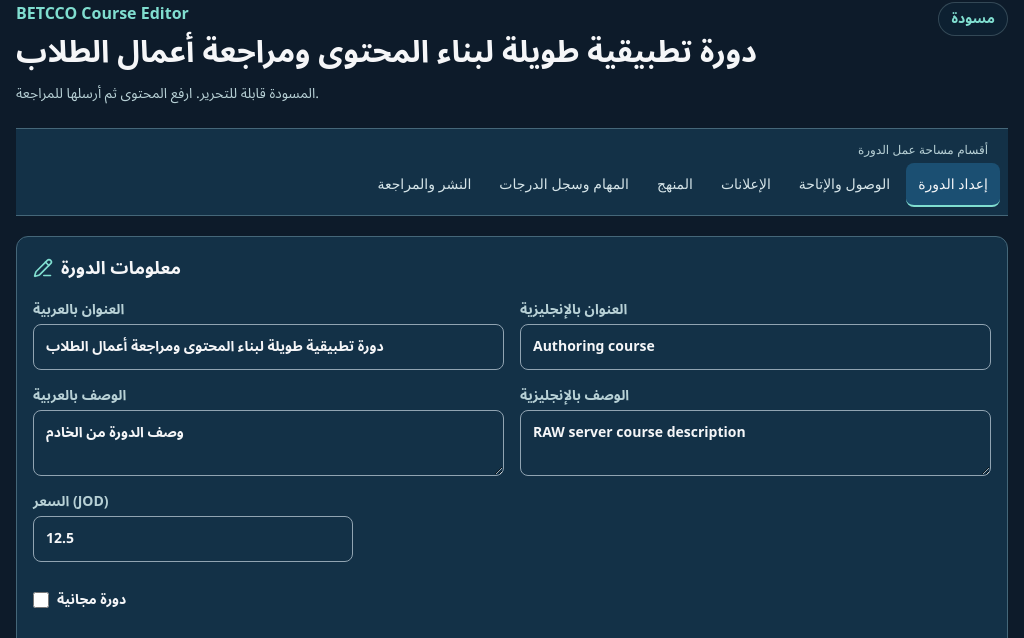
ar mutable Teacher authoring › preserves update payload and bodyless review request with server validation order
Step 1. Replace the text in the field labelled "العنوان بالإنجليزية" with "RAW updated title" → (756, 347), box [520,324,991,370]
(page scrolled)
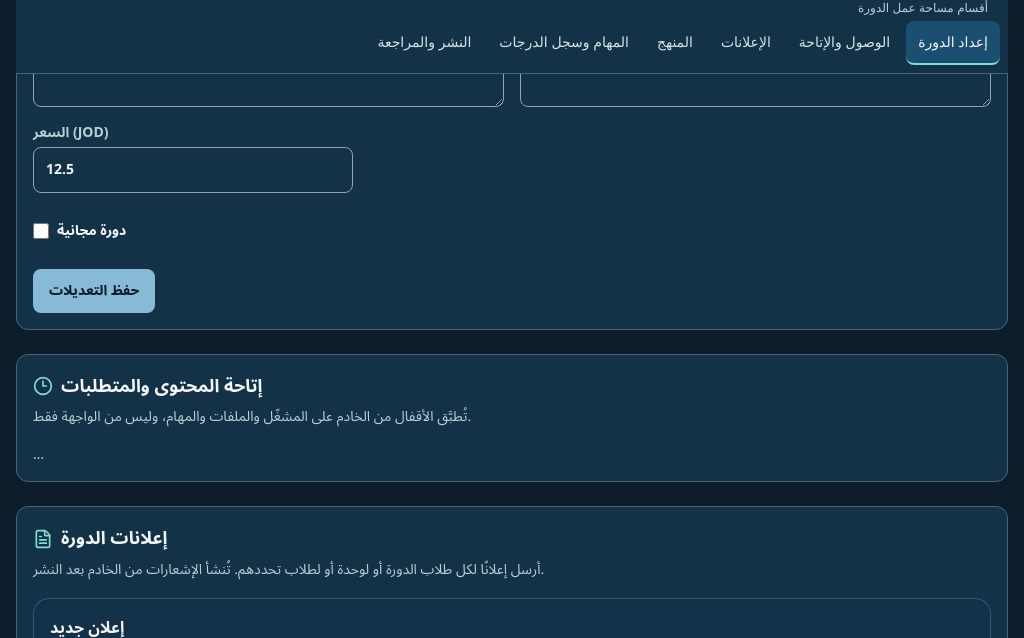
Step 2. Click the button "حفظ التعديلات" → (94, 291), box [33,269,155,313]
(page scrolled)
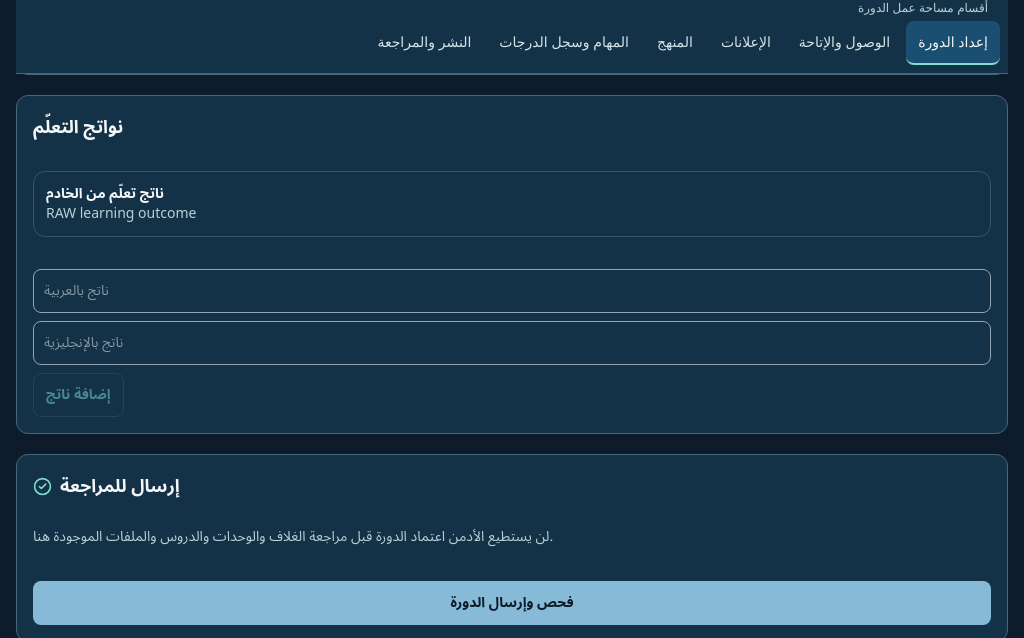
Step 3. Click the button "فحص وإرسال الدورة" → (512, 603), box [33,581,991,625]
(page scrolled)
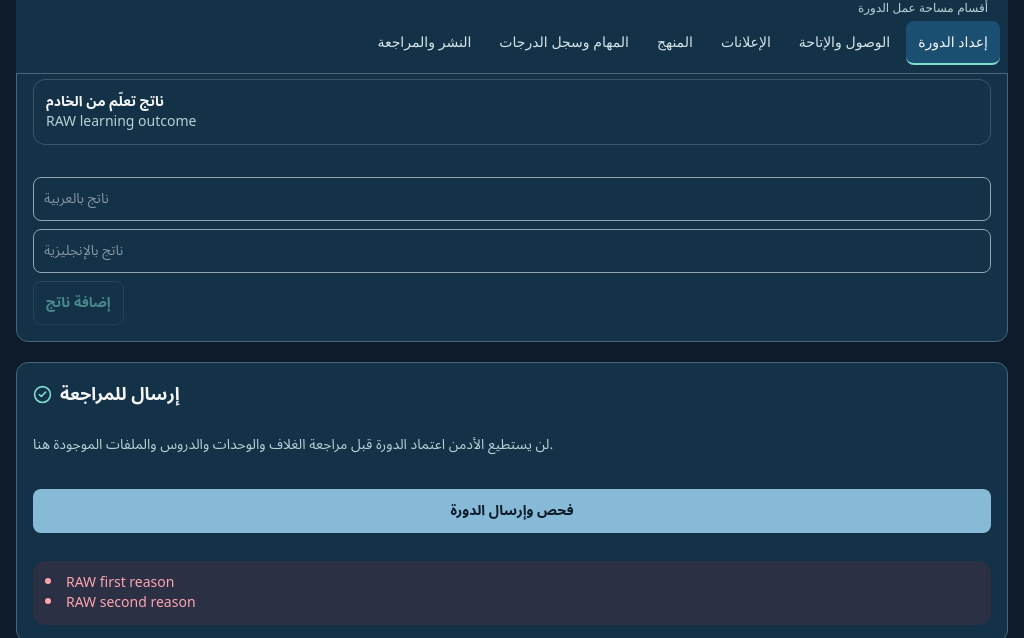
Expected: the list item "RAW second reason" is shown, [66,588,196,617]
Expected: the list items read "RAW first reason", "RAW second reason", in this order, [66,568,174,597]; [66,588,196,617]
